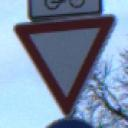preferencia: (10, 15, 123, 120)
